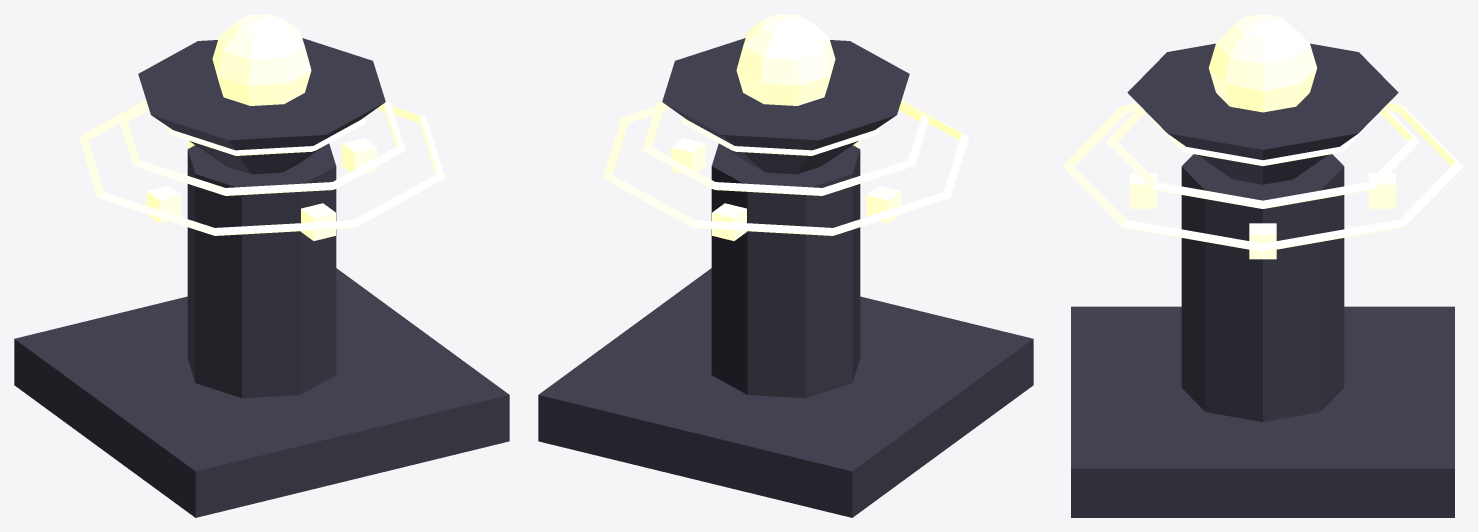
Rendered from tower_buff.glb.
3 views of the same model, side by side, from view 1: azimuth 30°, elevation 25°; view 2: azimuth 150°, elevation 25°; view 3: azimuth 270°, elevation 25° (orthographic). The views are drawn at different scales.
Parts seen in each view (by area): view 1: tower_buff; view 2: tower_buff; view 3: tower_buff.
Boxes of the visible parts, x1=… form: tower_buff: x1=14, y1=14, x2=509, y2=517; tower_buff: x1=538, y1=14, x2=1033, y2=517; tower_buff: x1=1062, y1=14, x2=1463, y2=517.
Bounding box in the file's own units: 0.74 × 0.85 × 0.74.
